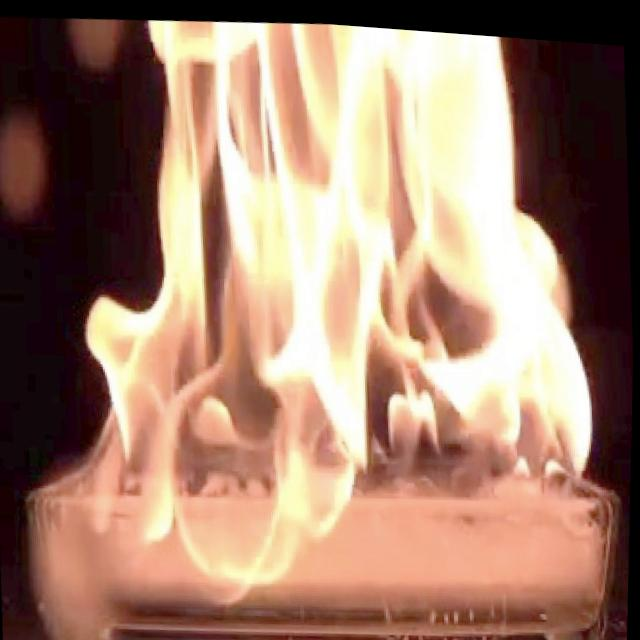Smoke: (59, 4, 616, 628)
